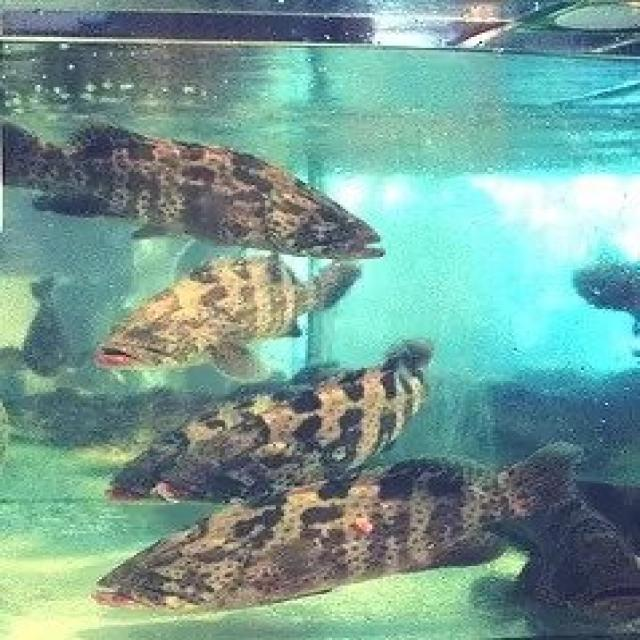grouper: (84, 436, 614, 619), (96, 342, 442, 510), (0, 118, 390, 260), (88, 251, 384, 375)
